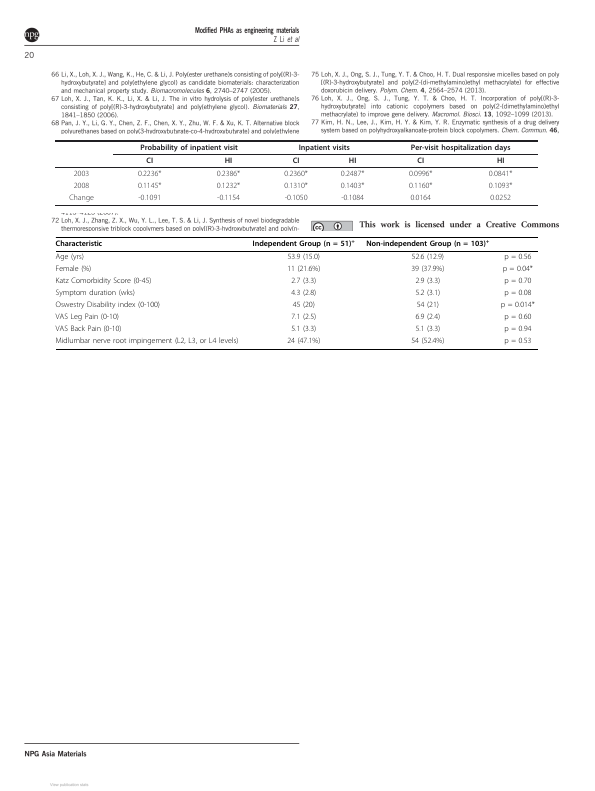borderless: (54, 236, 538, 349), (55, 139, 538, 205)
cell: (55, 337, 239, 346), (365, 238, 490, 249), (252, 238, 356, 249), (55, 301, 161, 311), (55, 277, 152, 287), (410, 143, 511, 152), (139, 143, 239, 152), (55, 289, 136, 299), (55, 325, 122, 334), (55, 313, 120, 322), (298, 143, 351, 152), (55, 240, 103, 249), (55, 265, 92, 275), (500, 301, 536, 311), (286, 253, 321, 263), (286, 265, 321, 275), (410, 265, 445, 275), (411, 253, 445, 263), (502, 265, 534, 275), (286, 337, 321, 346), (410, 337, 445, 346), (55, 253, 85, 263), (503, 253, 532, 263), (503, 277, 532, 287), (503, 289, 532, 299), (290, 277, 317, 287), (414, 277, 441, 287), (290, 289, 317, 299), (414, 289, 441, 299), (68, 193, 95, 203), (503, 313, 532, 322), (503, 325, 532, 334), (503, 337, 532, 346), (283, 169, 309, 179), (283, 181, 309, 191), (137, 169, 162, 179), (216, 169, 241, 179), (340, 169, 365, 179), (408, 169, 433, 179), (488, 169, 513, 179), (137, 181, 162, 191), (216, 181, 241, 191), (340, 181, 365, 191), (408, 181, 433, 191), (488, 181, 513, 191), (137, 193, 162, 203), (216, 193, 241, 203), (340, 193, 365, 203), (290, 313, 317, 322), (414, 313, 441, 322), (290, 325, 317, 334), (414, 325, 441, 334), (292, 301, 316, 311), (416, 301, 440, 311), (284, 193, 308, 203), (409, 193, 432, 203), (489, 193, 512, 203), (73, 169, 90, 179), (73, 181, 90, 191), (145, 156, 154, 166), (224, 156, 233, 166), (348, 156, 357, 166), (416, 156, 425, 166), (496, 156, 505, 166), (292, 156, 300, 166)
